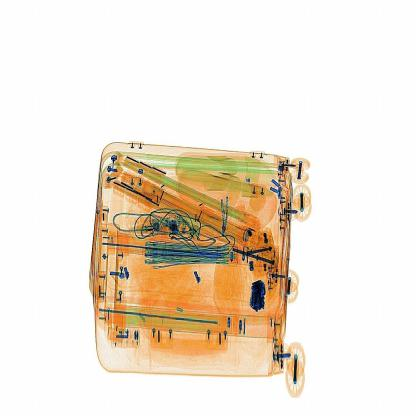scissors: (239, 268, 272, 317)
